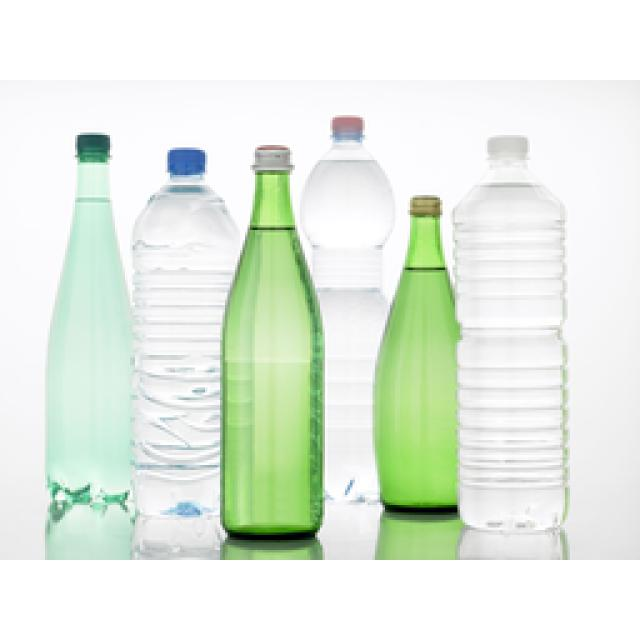plastic_water_bottles: (452, 128, 575, 552), (42, 134, 135, 538), (140, 148, 228, 545)
